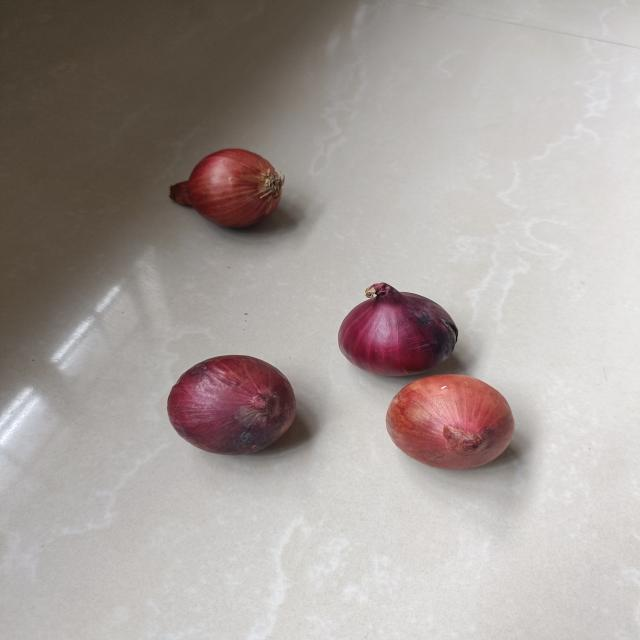onion: (161, 352, 306, 458), (383, 372, 519, 475), (334, 283, 466, 378), (163, 147, 292, 230)
